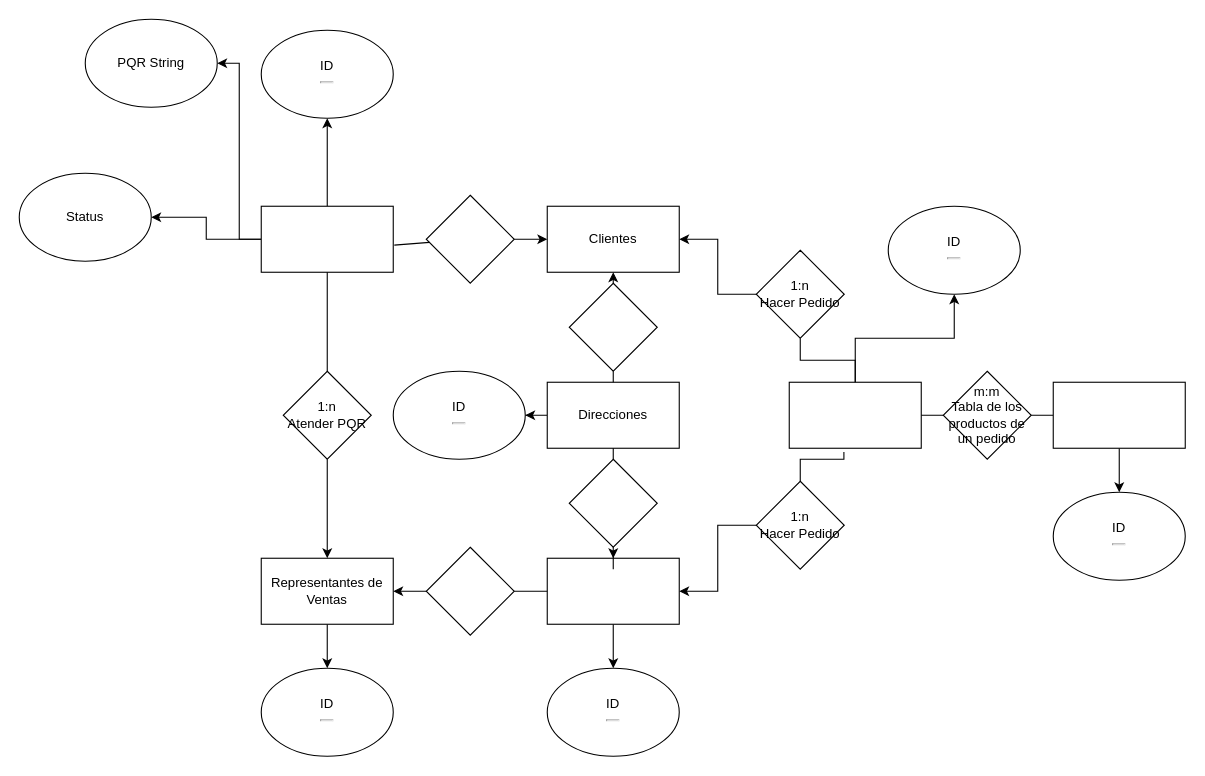
Some shapes in this 1205 by 776 pixel diagram are drawn without their labels. Here are the shapes that lost their labels. From the top down, the centre of each, then its label:
pixel 326 238: Cliente PQR
pixel 469 238: n:1 Hacer PQR
pixel 612 326: n:1 Direcciones
pixel 854 414: Pedidos Registro
pixel 1118 414: Productos
pixel 612 502: 1:n Direcciones
pixel 469 590: 1:n Atender Equipo
pixel 612 590: Representante de Equipo
